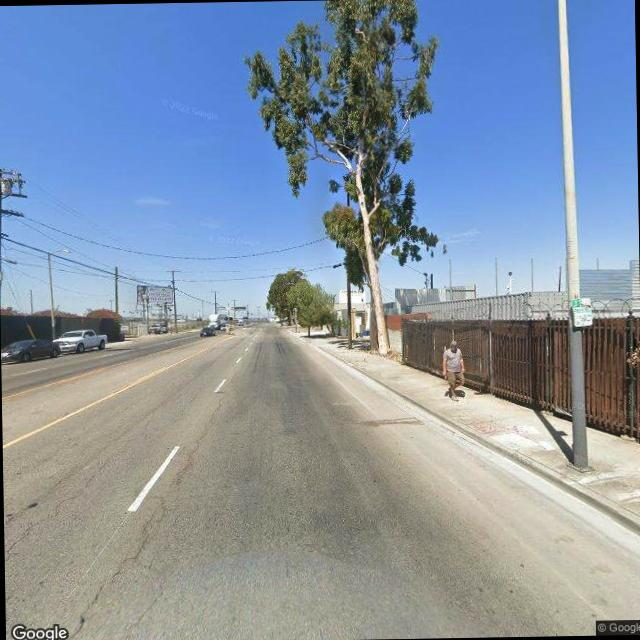crack: (2, 458, 112, 600), (68, 506, 168, 632)
